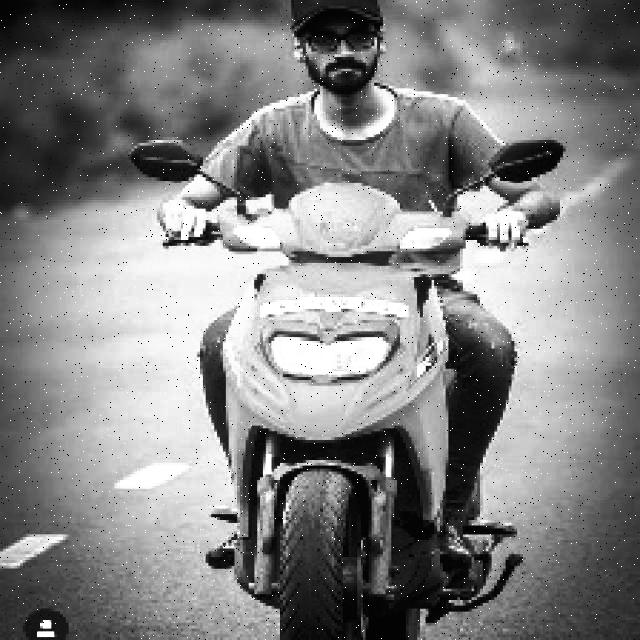Bike: (171, 188, 465, 640)
